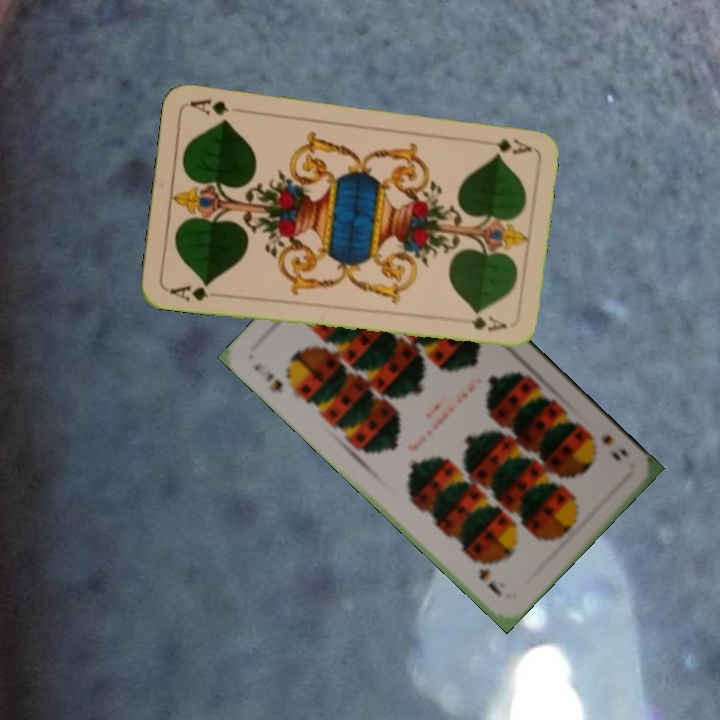GA: (475, 134, 534, 157), (166, 279, 212, 304)
S9: (249, 358, 286, 396), (595, 430, 632, 464)
